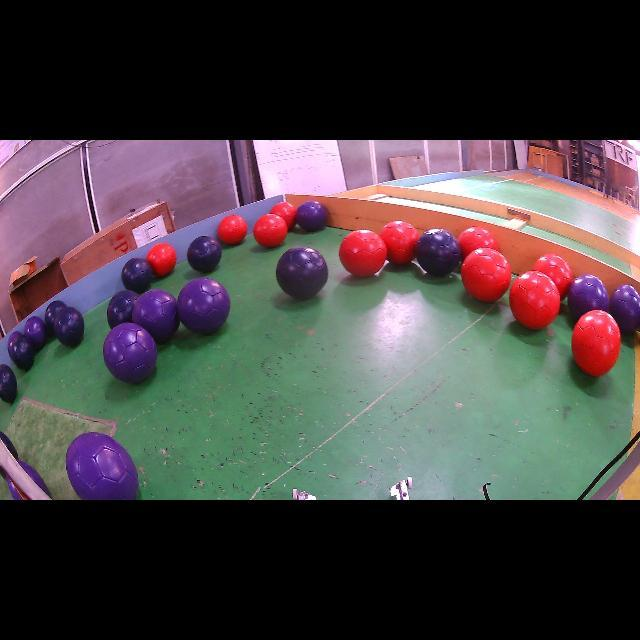B: (276, 246, 328, 299), (415, 229, 461, 276), (108, 290, 139, 329), (54, 306, 84, 346), (188, 236, 221, 272), (121, 258, 152, 294), (8, 331, 34, 370), (45, 300, 66, 334), (0, 364, 18, 402)
P: (66, 432, 139, 500), (102, 322, 158, 383), (178, 278, 230, 334), (132, 290, 180, 344), (568, 274, 609, 319), (609, 284, 640, 334), (296, 200, 328, 231), (24, 316, 46, 351)
R: (571, 310, 621, 376), (509, 271, 560, 330), (461, 248, 511, 302), (339, 230, 388, 276), (534, 254, 572, 300), (380, 221, 420, 264), (458, 226, 499, 258), (254, 214, 288, 248), (146, 242, 176, 276), (218, 215, 248, 244), (270, 201, 298, 229)
